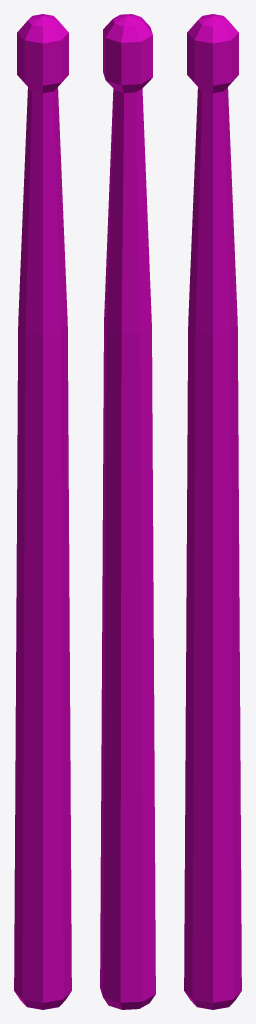
Rendered from Drumstick_01.fbx.
The picture shows the model from 3 angles, left to right: view 1: azimuth 90°, elevation 25°; view 2: azimuth 210°, elevation 25°; view 3: azimuth 270°, elevation 25°; orthographic projection.
Visible parts, largest first — view 1: Drumstick_01; view 2: Drumstick_01; view 3: Drumstick_01.
Boxes of the visible parts, x1,y1,x2,y2 form: Drumstick_01: (14, 14, 71, 1009); Drumstick_01: (100, 14, 155, 1009); Drumstick_01: (184, 14, 241, 1009).
Size of the model in its own units: 0.5279 by 9.92 by 0.5279.
